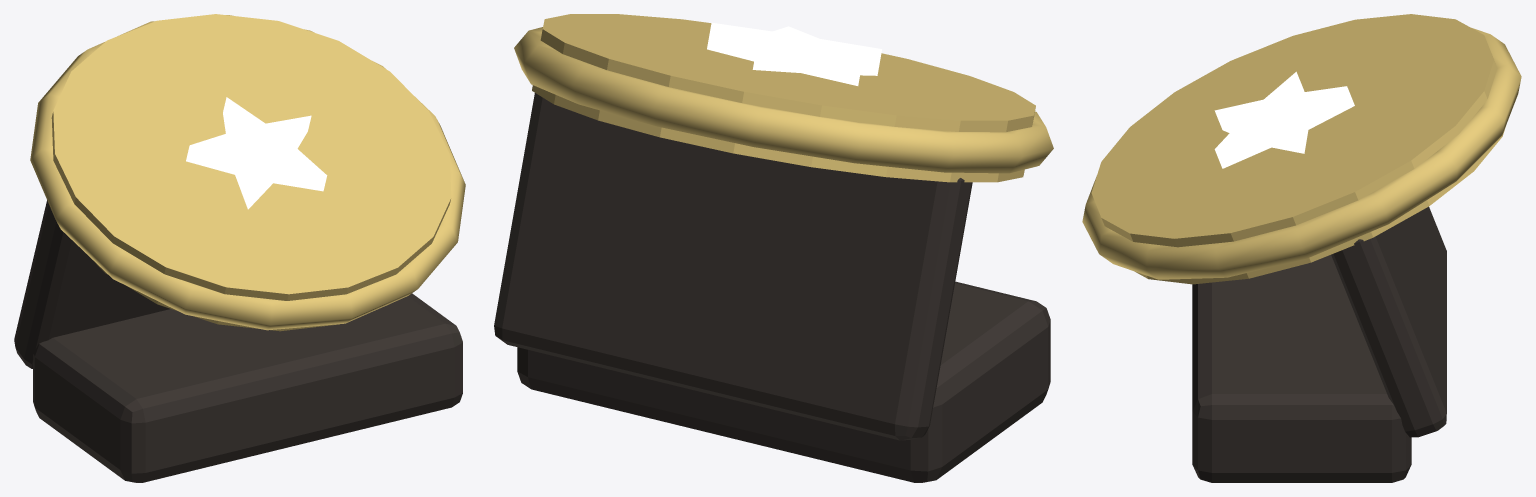
The model's file is metal_badge.glb.
3 renders of one model, left to right at view 1: azimuth 30°, elevation 25°; view 2: azimuth 150°, elevation 25°; view 3: azimuth 270°, elevation 25°, orthographic. The views are drawn at different scales.
Visible parts, largest first — view 1: metal_badge_gold, metal_badge_dark, metal_badge_ems; view 2: metal_badge_dark, metal_badge_gold, metal_badge_ems; view 3: metal_badge_gold, metal_badge_dark, metal_badge_ems.
Part boxes in pixels (x1,y1,x2,y2): metal_badge_gold: (30, 14, 465, 331); metal_badge_dark: (14, 200, 462, 482); metal_badge_ems: (186, 97, 327, 209); metal_badge_dark: (494, 93, 1050, 482); metal_badge_gold: (514, 14, 1053, 182); metal_badge_ems: (707, 22, 881, 85); metal_badge_gold: (1082, 14, 1521, 284); metal_badge_dark: (1192, 206, 1446, 482); metal_badge_ems: (1214, 71, 1354, 168).
Bounding box in the file's own units: 0.192 × 0.1555 × 0.1804.
